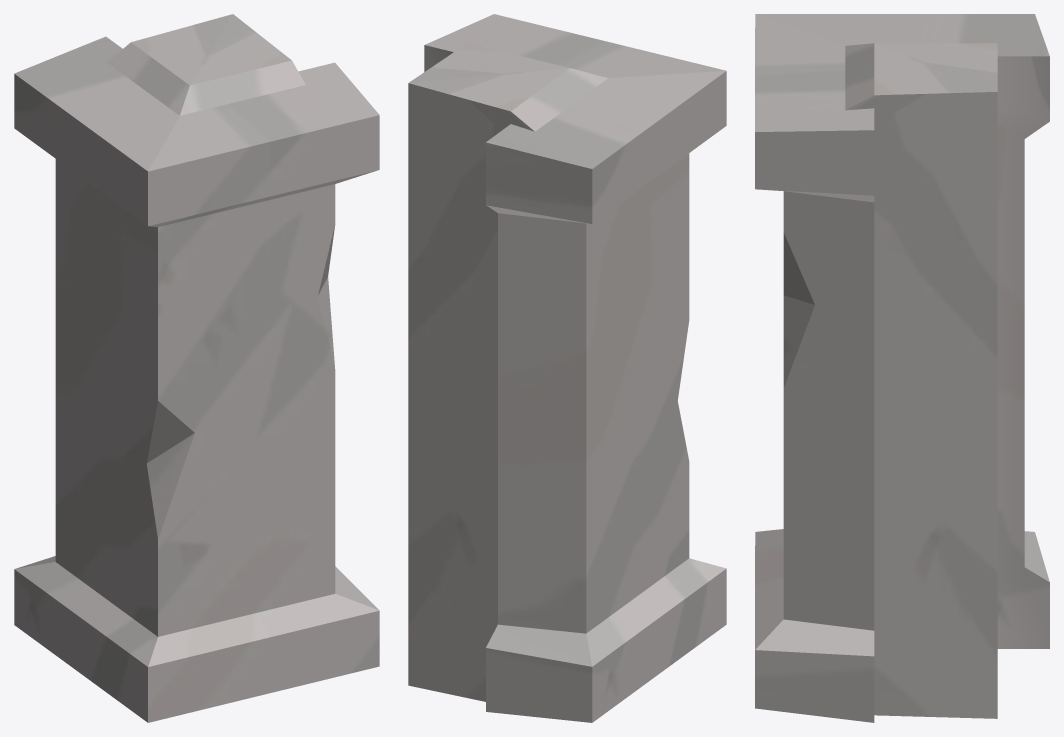
File: ancient_SM_Bld_Trim_Large_Corner_02.gltf
3 renders of one model, left to right at view 1: azimuth 30°, elevation 25°; view 2: azimuth 150°, elevation 25°; view 3: azimuth 270°, elevation 25°, orthographic. The views are drawn at different scales.
Parts seen in each view (by area): view 1: SM_Bld_Trim_Large_Corner_02; view 2: SM_Bld_Trim_Large_Corner_02; view 3: SM_Bld_Trim_Large_Corner_02.
Boxes of the visible parts, x1,y1,x2,y2 form: SM_Bld_Trim_Large_Corner_02: (14,14,379,722); SM_Bld_Trim_Large_Corner_02: (408,14,726,722); SM_Bld_Trim_Large_Corner_02: (755,14,1049,722).
Bounding box in the file's own units: 0.4106 × 0.9649 × 0.4112.
Materials: 1 (1 with a texture image).
